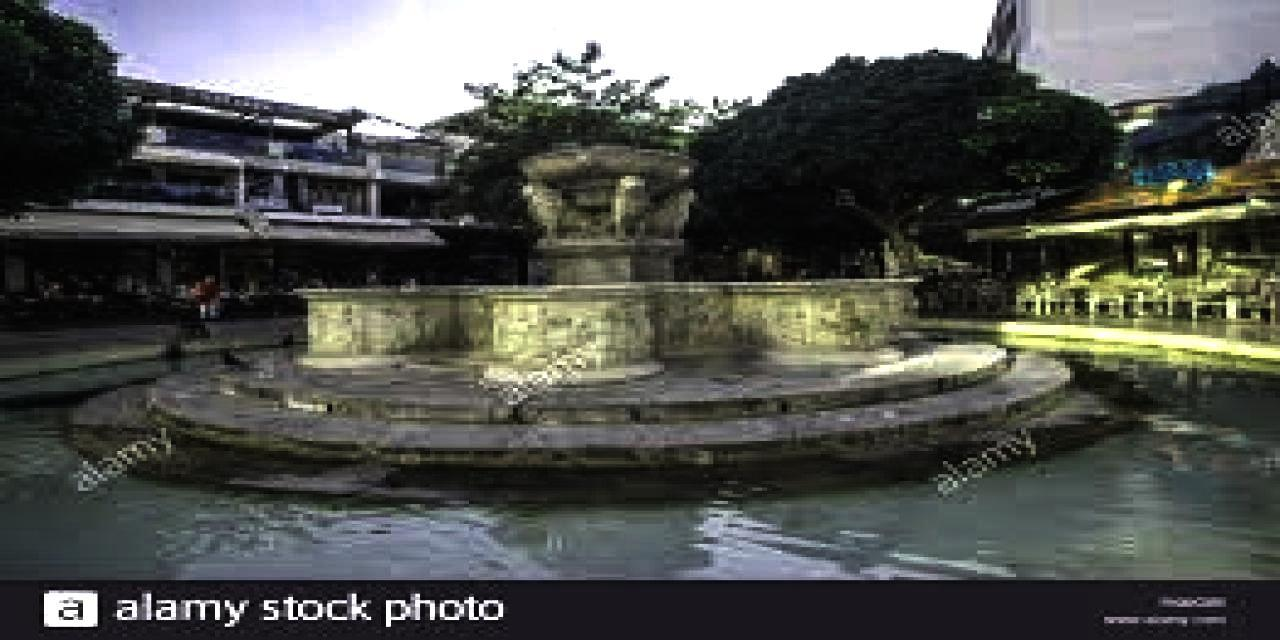Liontaria: (308, 148, 928, 398)
